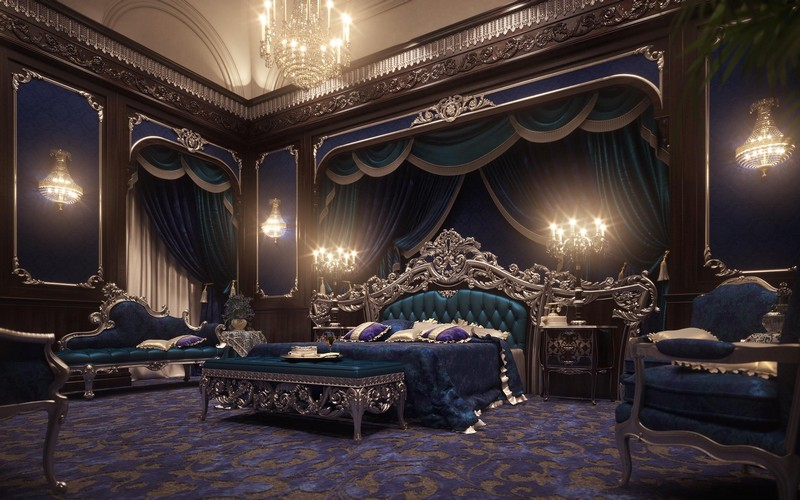bed: (195, 230, 545, 424)
chair: (4, 311, 74, 493)
lamp: (733, 87, 796, 183), (540, 205, 622, 270), (30, 145, 89, 226), (307, 230, 372, 286), (257, 190, 295, 251)
sofa: (612, 315, 800, 486), (627, 267, 794, 387), (53, 281, 227, 395)
stool: (542, 317, 619, 414)
